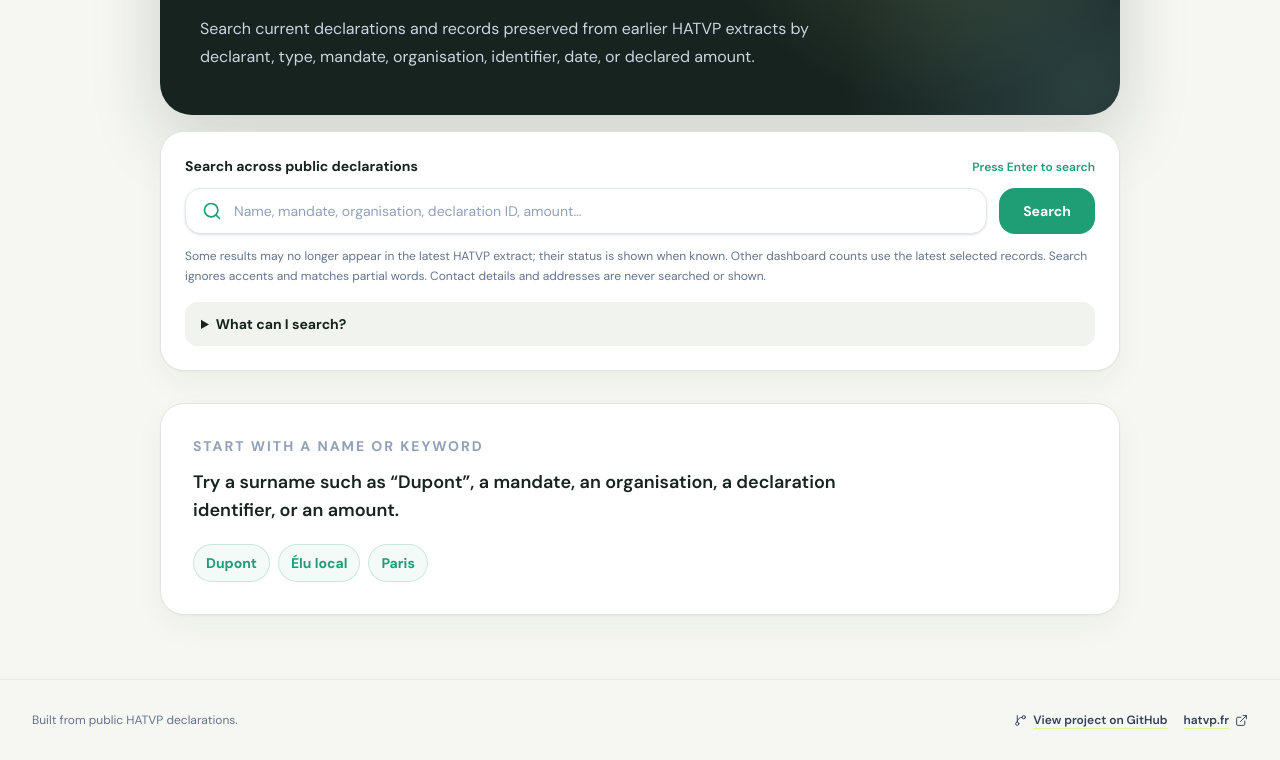
Test: dashboard application › offers quick-start searches and lets people clear a search
(page scrolled)
What coordinates should you click on to do the following:
click the button "Dupont"
I would click on:
 (231, 563)
Its box is [193,544,270,582].
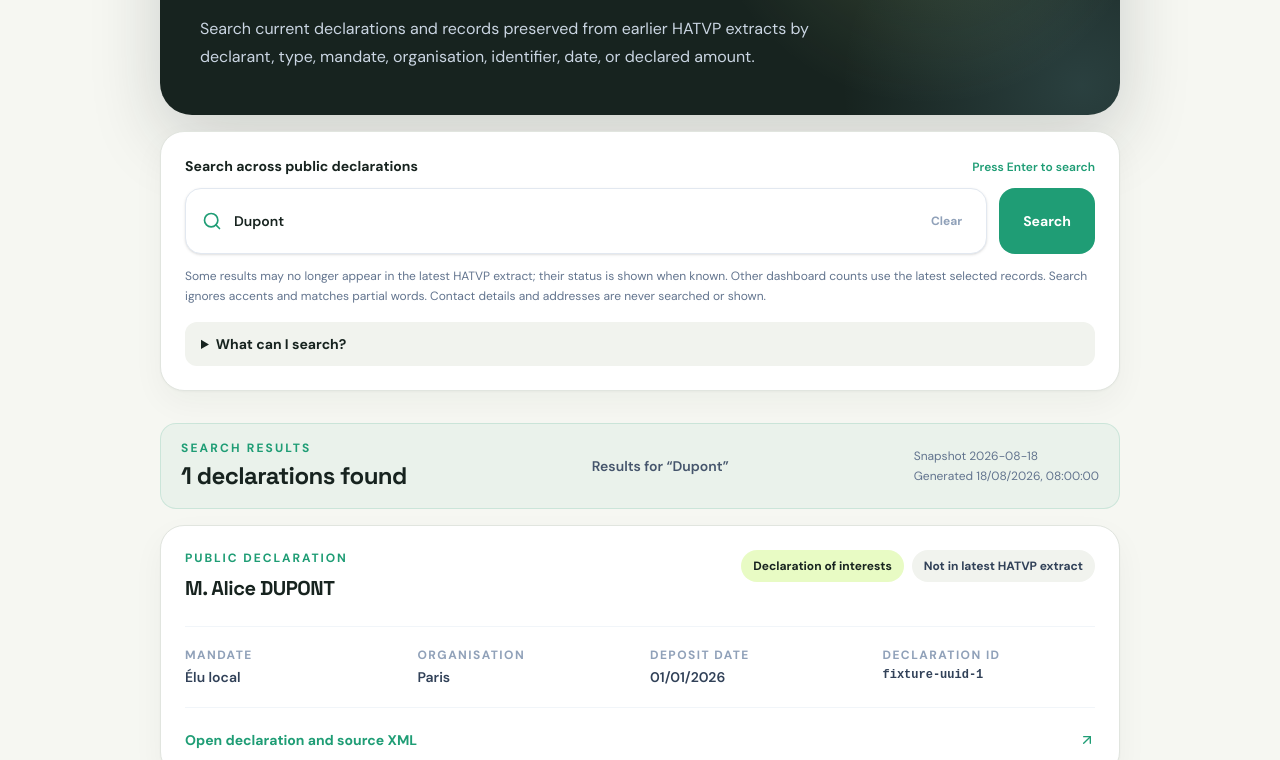
Result: the heading "M. Alice DUPONT" is shown at [185,574,348,602]
Result: the text "Results for “Dupont”" is shown at [592,456,729,476]
What coordinates should you click on to do the following:
click the button "Clear"
I would click on:
 (946, 221)
Its box is [923,201,970,241].
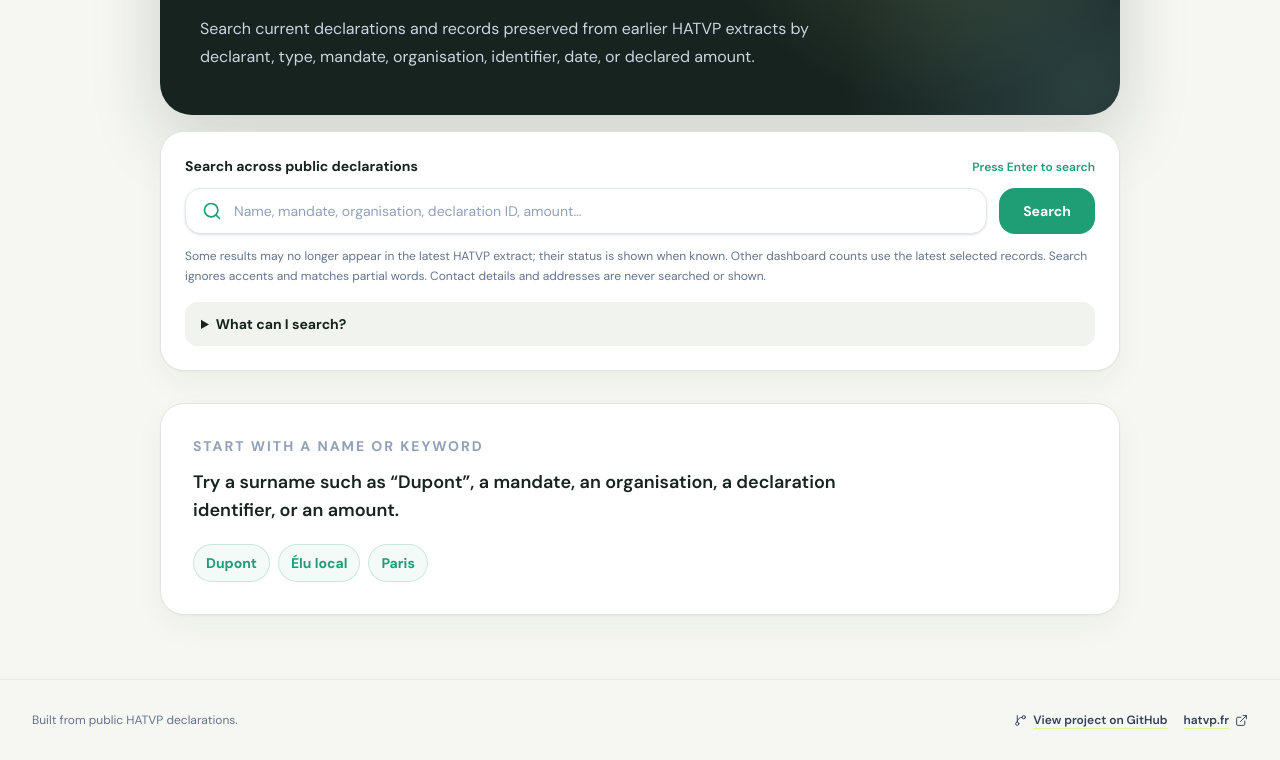
Result: the text "Start with a name or keyword" is shown at [193,437,484,455]
